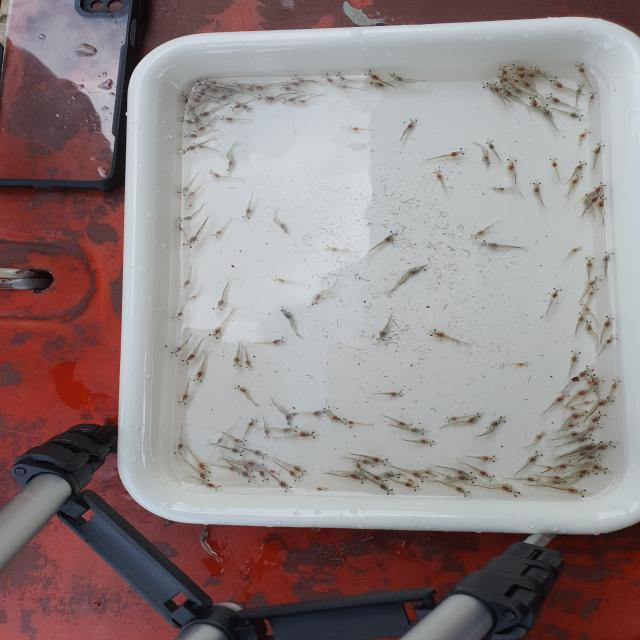babyshrimp: (499, 482, 527, 498), (181, 233, 202, 251), (538, 103, 555, 121), (208, 325, 225, 342), (404, 264, 428, 276), (564, 487, 590, 498), (377, 483, 396, 497), (549, 75, 568, 89), (452, 486, 474, 498), (278, 479, 295, 494), (382, 229, 399, 244), (179, 353, 197, 367), (361, 69, 382, 81), (408, 470, 427, 483), (488, 415, 507, 428), (578, 364, 597, 377), (595, 440, 617, 451), (554, 391, 571, 405), (240, 470, 258, 483), (401, 482, 424, 492), (212, 299, 227, 314), (279, 305, 294, 320), (196, 460, 212, 474), (568, 350, 582, 366), (601, 248, 615, 264), (527, 450, 544, 463), (466, 412, 483, 425), (478, 470, 496, 482), (596, 395, 614, 407), (544, 92, 562, 104), (169, 345, 184, 359), (347, 474, 368, 484), (416, 438, 437, 448), (578, 433, 597, 444), (486, 137, 499, 153), (292, 464, 309, 476), (295, 430, 317, 439), (531, 180, 542, 198), (449, 147, 467, 158), (588, 373, 602, 387), (309, 294, 323, 308), (550, 285, 563, 300), (593, 142, 606, 157), (209, 228, 225, 240), (193, 369, 205, 385), (178, 145, 197, 155), (429, 329, 448, 339), (479, 240, 500, 249), (230, 446, 247, 457), (590, 411, 607, 422), (176, 185, 190, 198), (602, 315, 616, 328), (570, 174, 584, 187), (574, 160, 588, 173), (505, 158, 519, 171), (585, 254, 595, 272), (548, 154, 560, 169), (569, 112, 587, 122), (573, 62, 588, 74), (320, 72, 335, 84), (603, 334, 619, 345), (453, 476, 478, 483), (592, 465, 611, 474), (588, 377, 605, 387), (469, 230, 486, 240), (198, 472, 211, 485), (406, 117, 419, 130), (174, 215, 195, 223), (174, 442, 186, 456), (489, 82, 503, 94), (376, 330, 388, 344), (226, 160, 237, 175), (242, 207, 253, 222), (590, 192, 605, 203), (528, 95, 539, 110), (240, 102, 255, 113), (198, 110, 216, 119), (568, 411, 588, 419), (575, 387, 591, 397), (271, 336, 287, 346), (178, 393, 191, 405), (580, 301, 593, 313), (587, 286, 600, 298), (534, 430, 548, 441), (575, 82, 586, 96), (285, 411, 296, 425), (179, 116, 196, 125), (372, 457, 389, 466), (371, 474, 388, 483), (257, 94, 276, 102), (207, 169, 222, 179), (589, 422, 604, 432), (205, 483, 221, 492), (281, 425, 299, 433), (383, 471, 401, 479), (610, 379, 622, 391), (330, 415, 346, 424), (322, 245, 340, 253), (389, 73, 405, 82), (279, 222, 290, 235), (173, 312, 186, 323), (258, 470, 269, 483), (288, 470, 301, 481), (234, 384, 248, 394), (488, 185, 508, 192), (389, 391, 406, 399), (369, 81, 386, 89), (291, 75, 308, 83), (233, 437, 248, 446), (584, 318, 593, 333), (312, 408, 327, 417), (480, 455, 499, 462), (481, 155, 491, 168), (433, 169, 443, 182), (579, 128, 592, 138), (455, 469, 473, 476), (577, 312, 588, 323), (596, 197, 607, 208), (596, 182, 607, 193), (183, 191, 195, 201), (247, 417, 259, 427), (183, 132, 200, 139), (269, 276, 286, 283), (183, 106, 196, 115), (589, 277, 602, 286), (315, 486, 331, 493), (567, 421, 581, 429), (509, 64, 525, 71), (347, 125, 361, 133), (250, 84, 266, 91), (575, 469, 591, 476), (180, 279, 191, 289), (213, 438, 224, 448), (589, 90, 599, 101), (498, 65, 509, 75), (496, 73, 508, 82), (268, 469, 283, 476), (570, 245, 583, 253), (397, 422, 410, 430), (229, 104, 242, 112), (293, 99, 310, 105), (175, 224, 185, 234), (481, 82, 492, 91), (335, 72, 346, 81), (193, 126, 207, 133), (413, 428, 427, 435), (343, 419, 357, 426), (282, 98, 296, 105), (229, 466, 242, 473), (517, 361, 530, 368), (512, 70, 525, 77), (336, 82, 349, 89), (192, 142, 207, 148), (279, 85, 294, 91), (233, 356, 241, 367), (353, 459, 362, 468), (221, 115, 234, 121), (244, 360, 253, 368), (524, 476, 536, 482), (545, 466, 557, 472), (360, 458, 371, 464), (264, 430, 271, 439), (582, 400, 594, 405), (185, 203, 193, 210), (188, 295, 198, 300), (552, 475, 562, 480)
